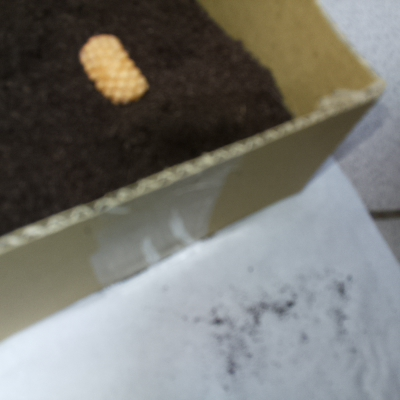eggs: (75, 26, 154, 109)
